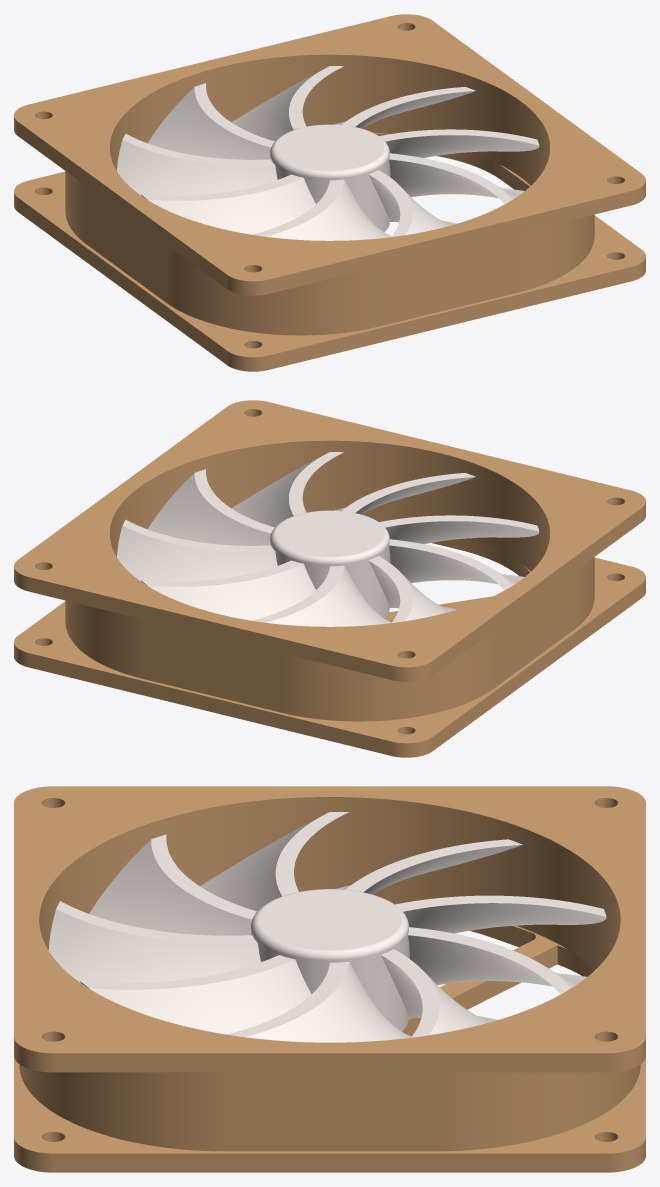
Rendered from axial-fan.glb.
3 views of the same model, one above another, from view 1: azimuth 30°, elevation 25°; view 2: azimuth 150°, elevation 25°; view 3: azimuth 270°, elevation 25° (orthographic). The views are drawn at different scales.
Size of the model in its own units: 0.12 by 0.025 by 0.12.
